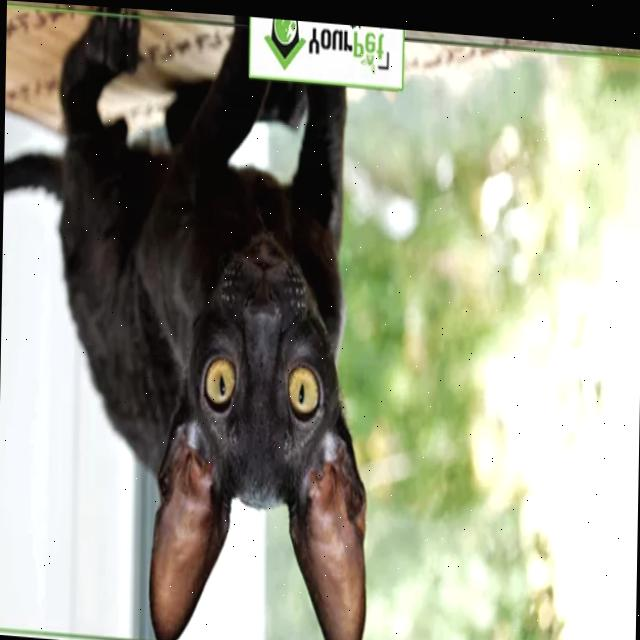Cornish Rex: (0, 0, 380, 640)
